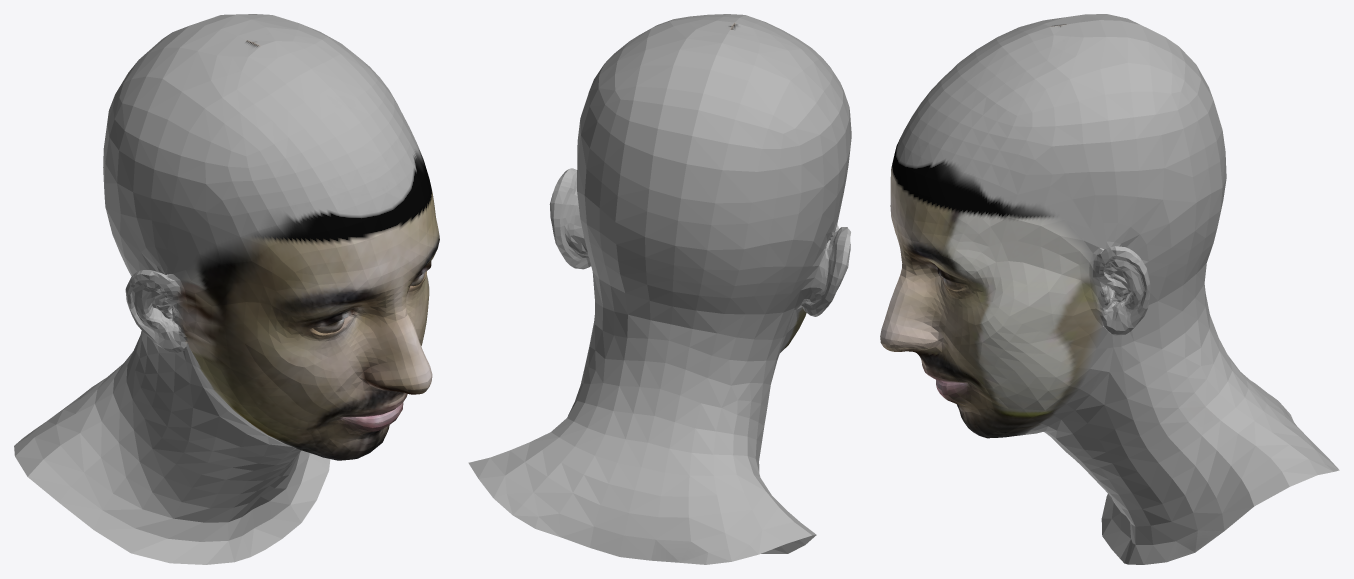
The model's file is ezgif-frame-063.obj.
3 renders of one model, left to right at view 1: azimuth 30°, elevation 25°; view 2: azimuth 150°, elevation 25°; view 3: azimuth 270°, elevation 25°, orthographic. The views are drawn at different scales.
Bounding box in the file's own units: 0.2028 × 0.3272 × 0.2654.
Materials: 1 (1 with a texture image).
